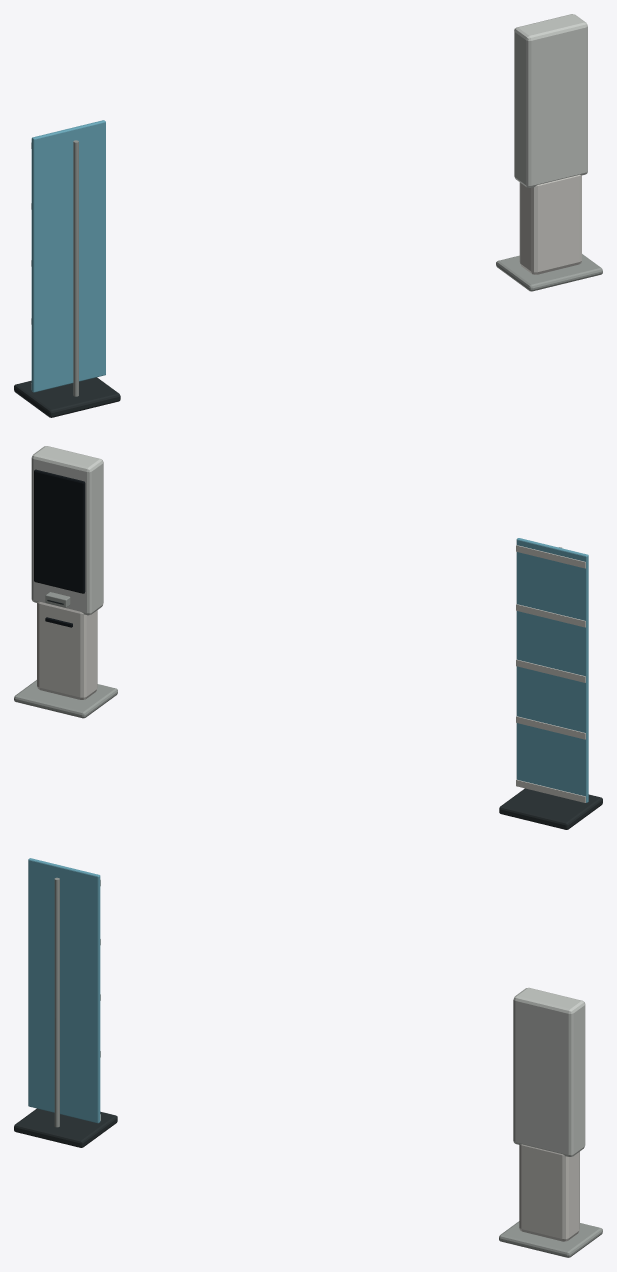
File: kiosk.glb
3 views of the same model, one above another, from view 1: azimuth 30°, elevation 25°; view 2: azimuth 150°, elevation 25°; view 3: azimuth 330°, elevation 25° (orthographic). The views are drawn at different scales.
Visible parts, largest first — view 1: G012_kiosk; view 2: G012_kiosk; view 3: G012_kiosk.
Part boxes in pixels (<box>): G012_kiosk: <box>14,14,602,417</box>; G012_kiosk: <box>14,446,602,829</box>; G012_kiosk: <box>14,858,602,1257</box>.
Bounding box in the file's own units: 3.67 × 1.67 × 0.5.
